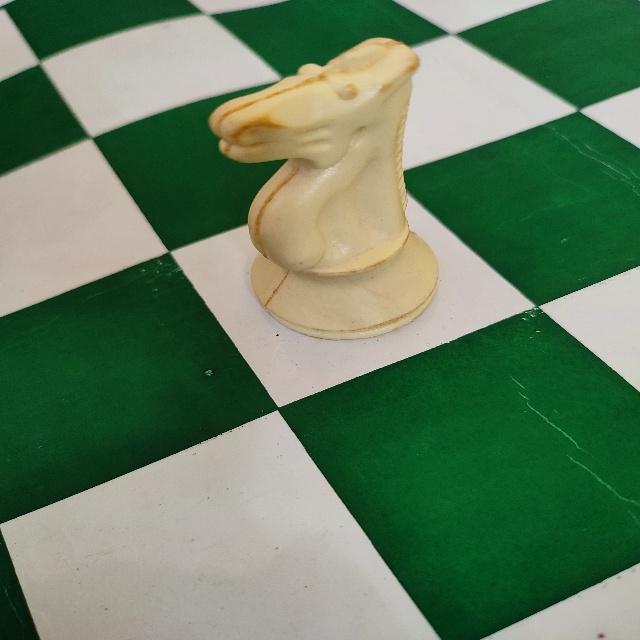Knight: (206, 36, 443, 344)
